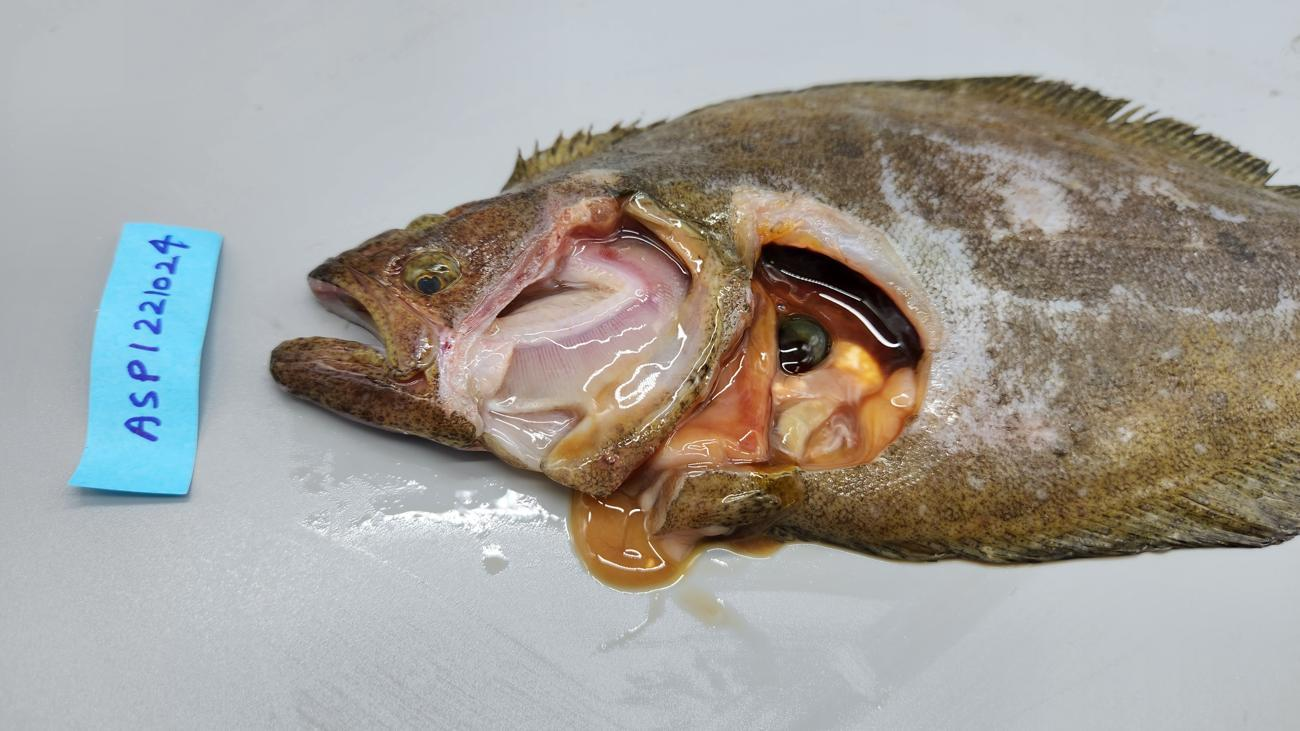SPGIP: (493, 232, 688, 408)
SPLIC: (654, 276, 780, 465)
